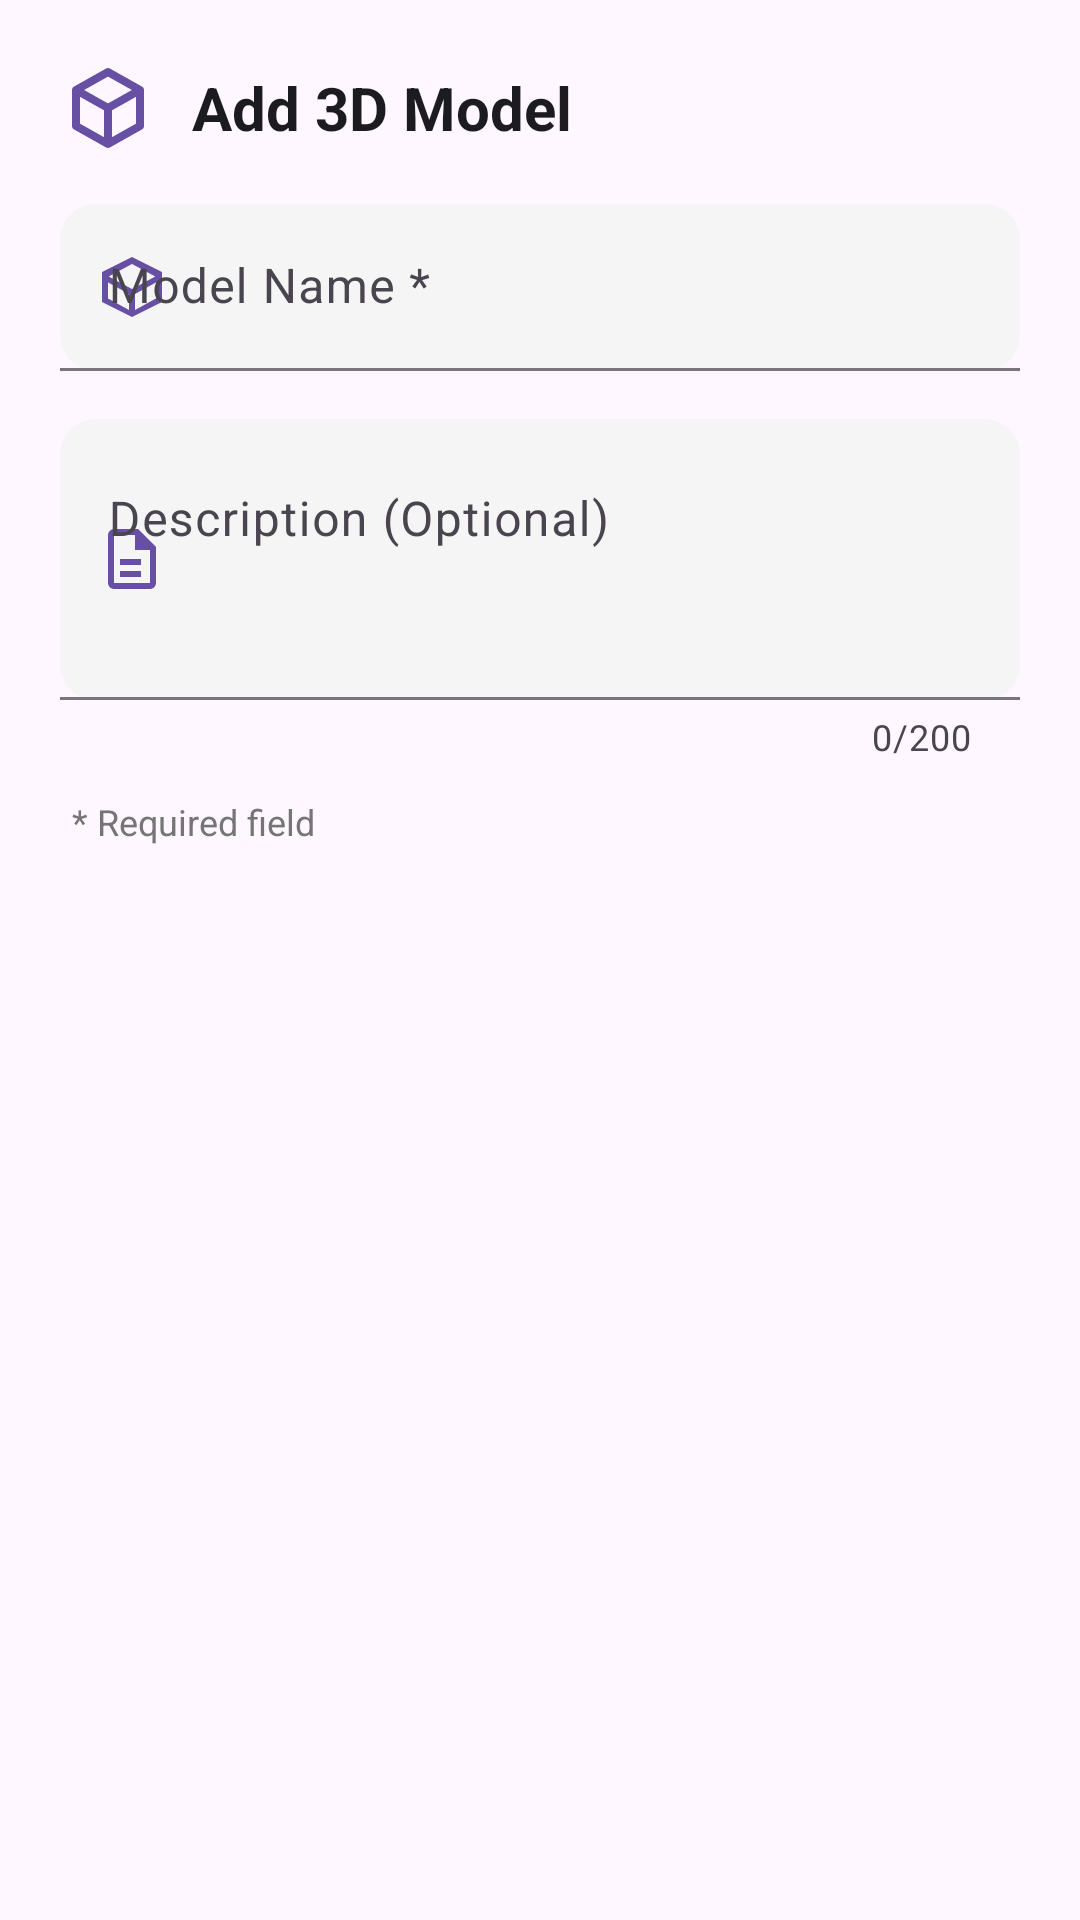

Icons on this 1080 × 1920 Android screen, each with the point to tap as (x=x, y=y):
cube: (x=108, y=108)
